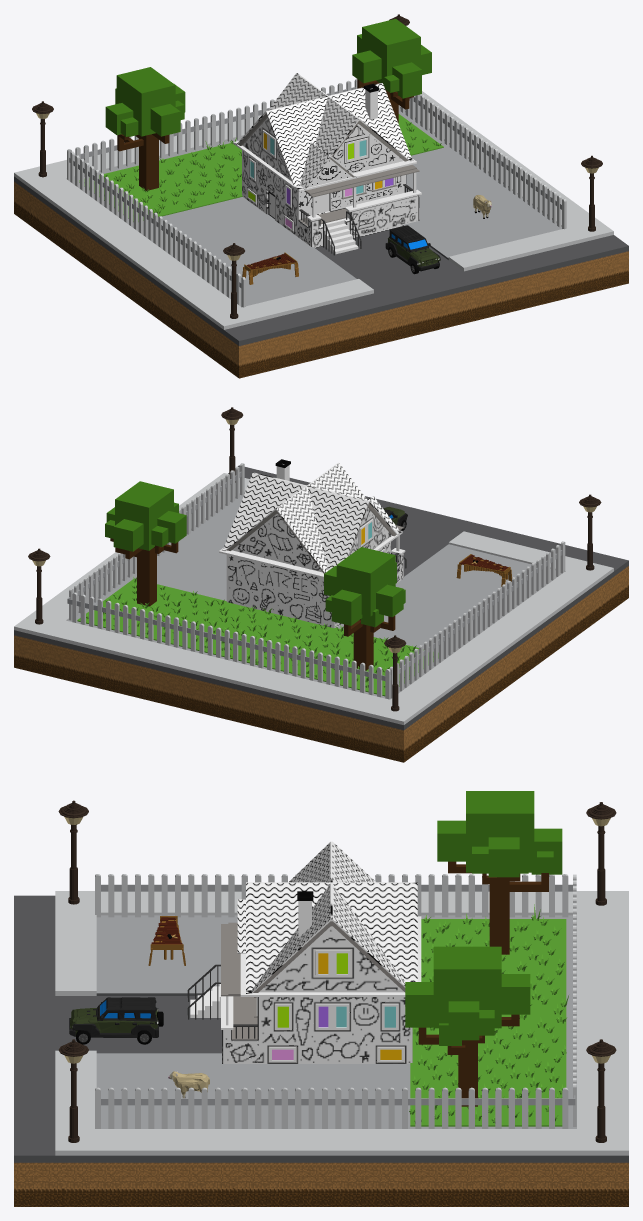
3 views of the same model, one above another, from view 1: azimuth 30°, elevation 25°; view 2: azimuth 150°, elevation 25°; view 3: azimuth 270°, elevation 25° (orthographic). The views are drawn at different scales.
Parts seen in each view (by area): view 1: Cube.004, Cube.879, VEHICLES_JEEP, OBJRANDOM_MARIMBA; view 2: Cube.004, Cube.879, OBJRANDOM_MARIMBA; view 3: Cube.004, Cube.879, VEHICLES_JEEP, OBJRANDOM_MARIMBA, ANIMAL_OVEJA.
Boxes of the visible parts, x1,y1,x2,y2 form: Cube.004: [14, 14, 628, 378]; Cube.879: [233, 73, 421, 255]; VEHICLES_JEEP: [385, 225, 440, 274]; OBJRANDOM_MARIMBA: [242, 252, 298, 284]; Cube.004: [14, 407, 628, 762]; Cube.879: [219, 459, 406, 628]; OBJRANDOM_MARIMBA: [456, 554, 512, 586]; Cube.004: [14, 791, 628, 1206]; Cube.879: [187, 841, 421, 1063]; VEHICLES_JEEP: [69, 997, 163, 1044]; OBJRANDOM_MARIMBA: [148, 916, 185, 965]; ANIMAL_OVEJA: [168, 1071, 209, 1098].
Bounding box in the file's own units: 4000 × 1617 × 4000.
Materials: 39 (10 with a texture image).
